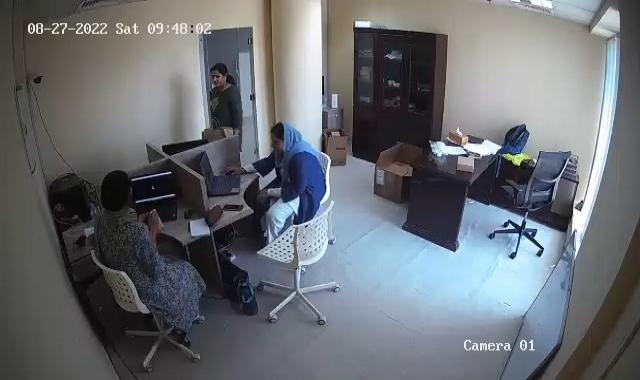no_hairnet: (103, 171, 136, 210), (266, 114, 296, 154), (202, 60, 234, 88)
